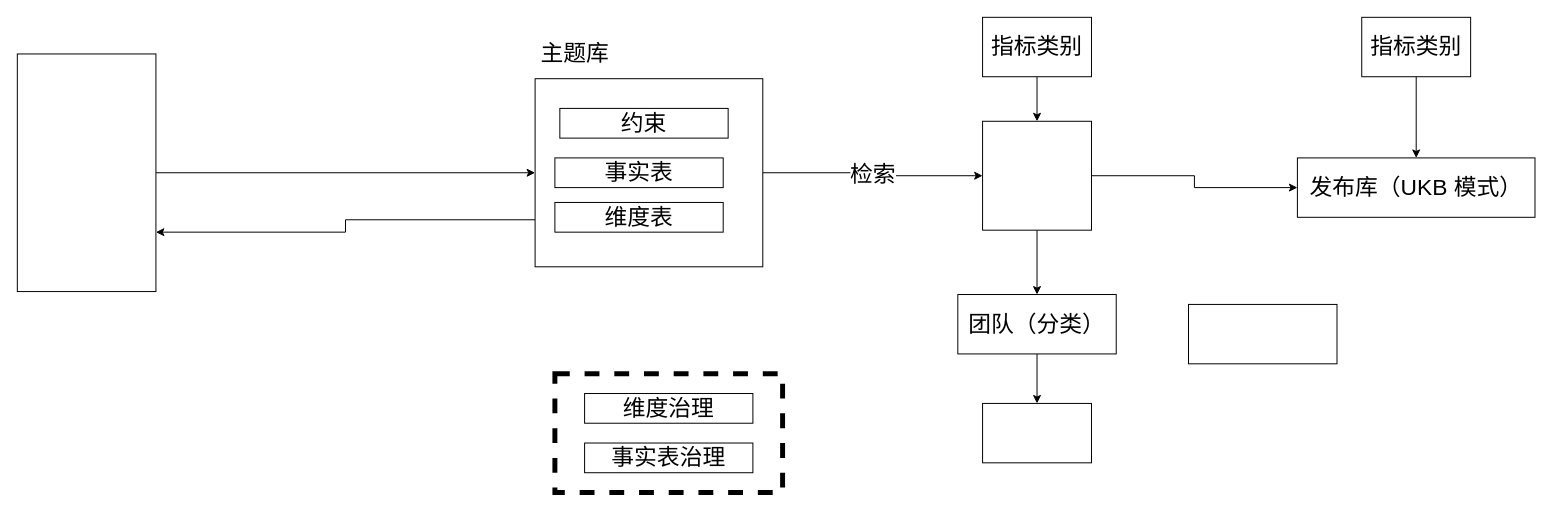
Some shapes in this 1552 by 512 pixel diagram are drawn without their labels. Here are the shapes that lost their labels. From the top down, the centre of each, then its label:
pixel 86 172: 原始数据 临床数据库 标准数据集
pixel 1036 175: 指标库
pixel 1262 333: 约束知识库
pixel 1036 432: 项目库
